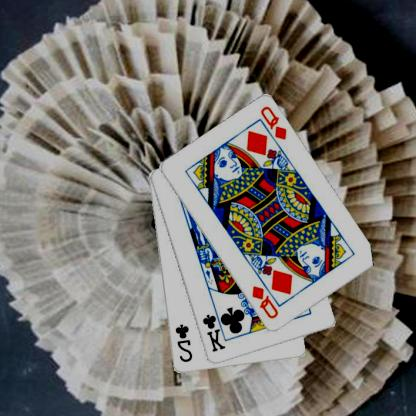2C: (174, 322, 195, 364)
KC: (202, 306, 230, 353)
QD: (259, 104, 290, 142), (251, 283, 281, 320)
